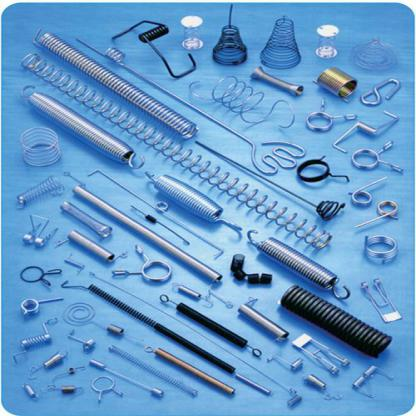FOD: (32, 28, 199, 140), (16, 81, 146, 169), (276, 283, 396, 361), (244, 225, 353, 302), (140, 166, 246, 234), (104, 340, 203, 400), (87, 356, 167, 400), (260, 12, 306, 72), (209, 2, 250, 67), (12, 315, 59, 365), (11, 173, 66, 208), (43, 384, 88, 395)
